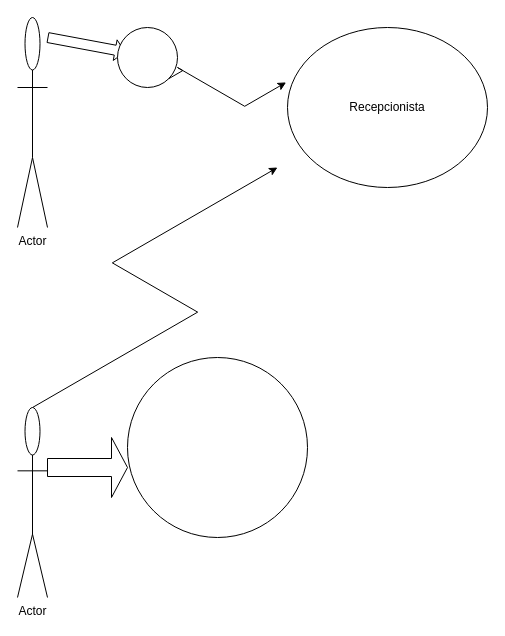
The diagram is 505 pixels wide and 636 high, and some of its shapes have lost their labels. Here are the shapes that lost their labels. From the top down, the centre of each, then its label:
(x=147, y=57): Quero fazer uma reserva
(x=217, y=447): Quero cancelar minha reserva
